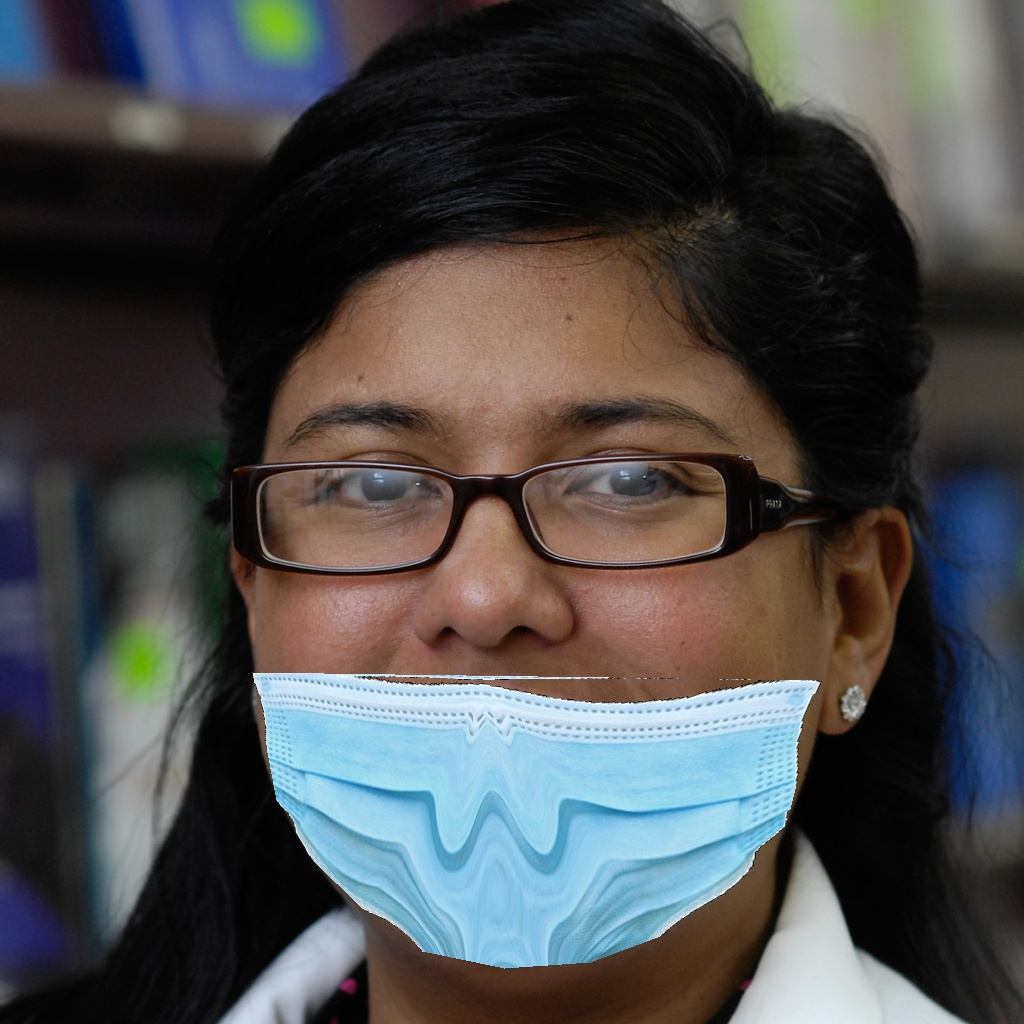mascarilla_mal_puesta: (256, 378, 868, 983)
